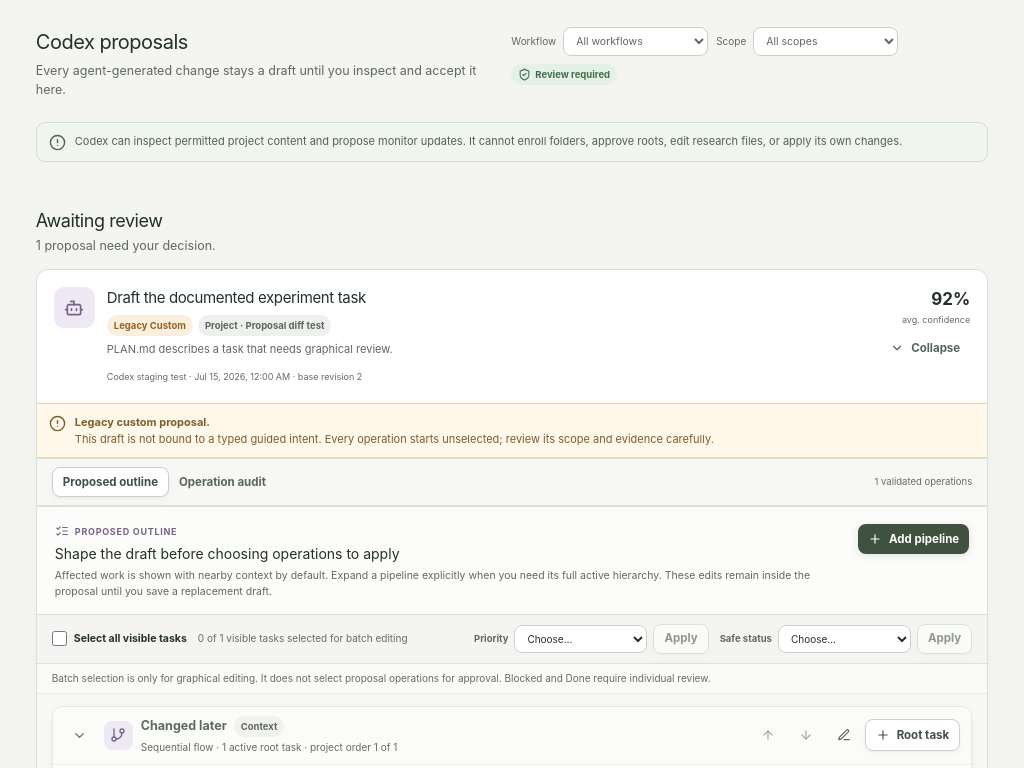
ProposalsView immutable diffs › reuses the same apply request ID when retrying the exact selected-operation payload
Later steps or results of the test are not shown.
Click the tab "Operation audit" at (222, 482), box [169, 467, 276, 497]
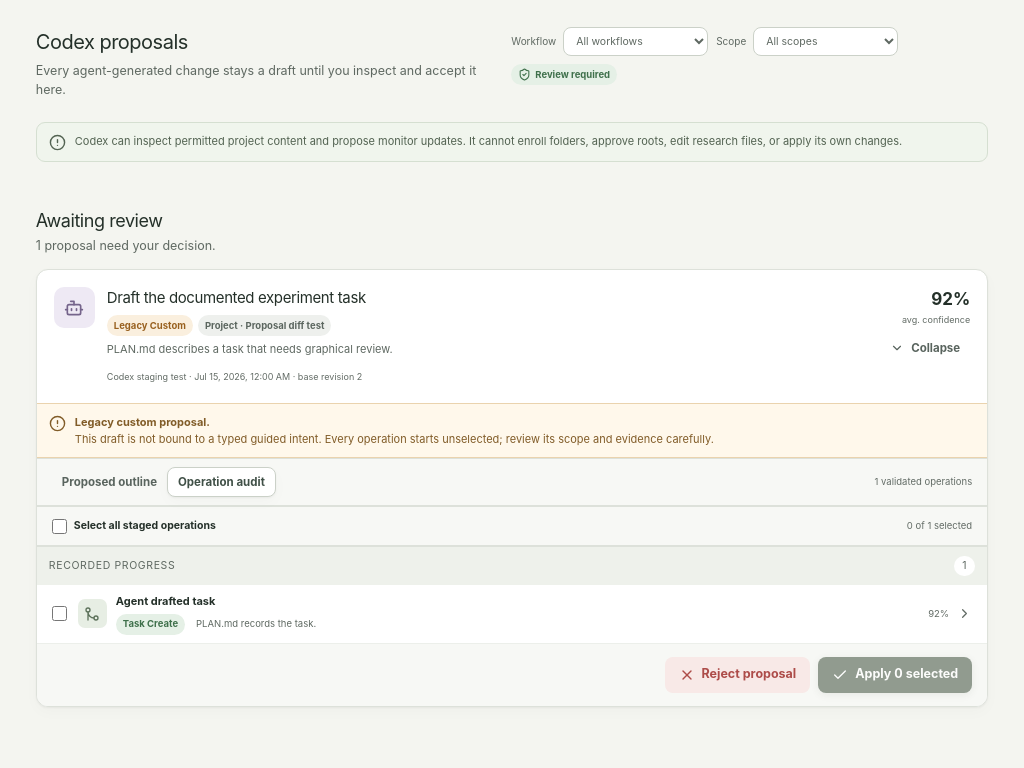
Click the checkbox named "Select Agent drafted task (Task Create)" at (59, 614), box [52, 606, 67, 621]
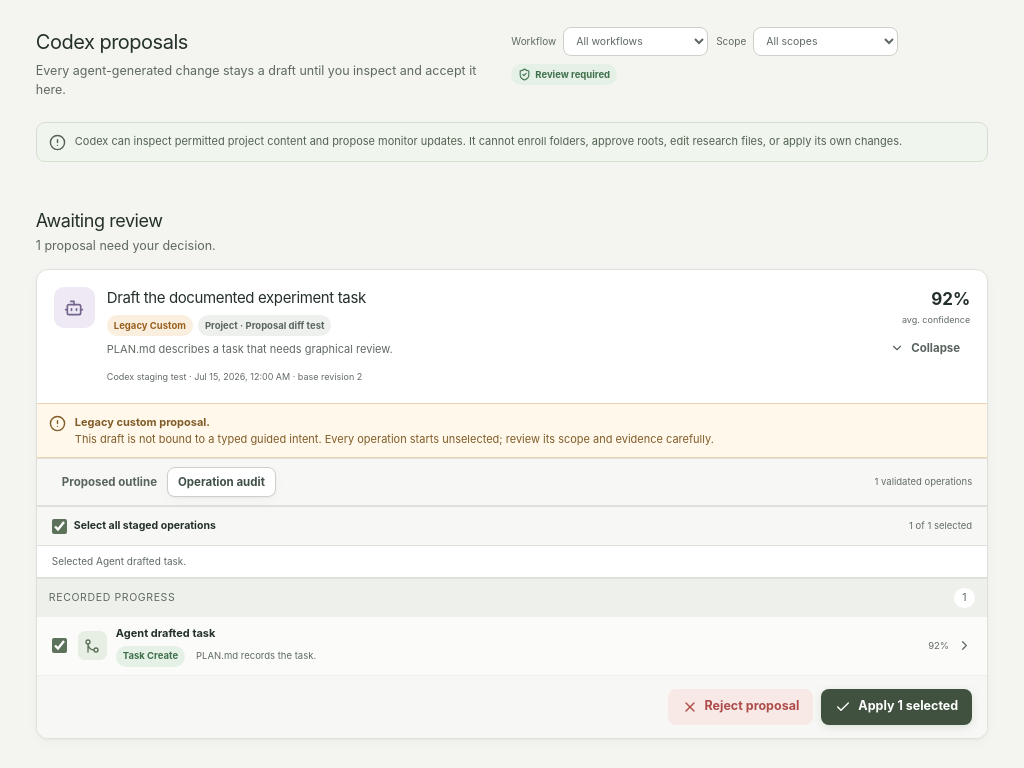
Click the button "Apply 1 selected" at (897, 706), box [821, 688, 972, 724]
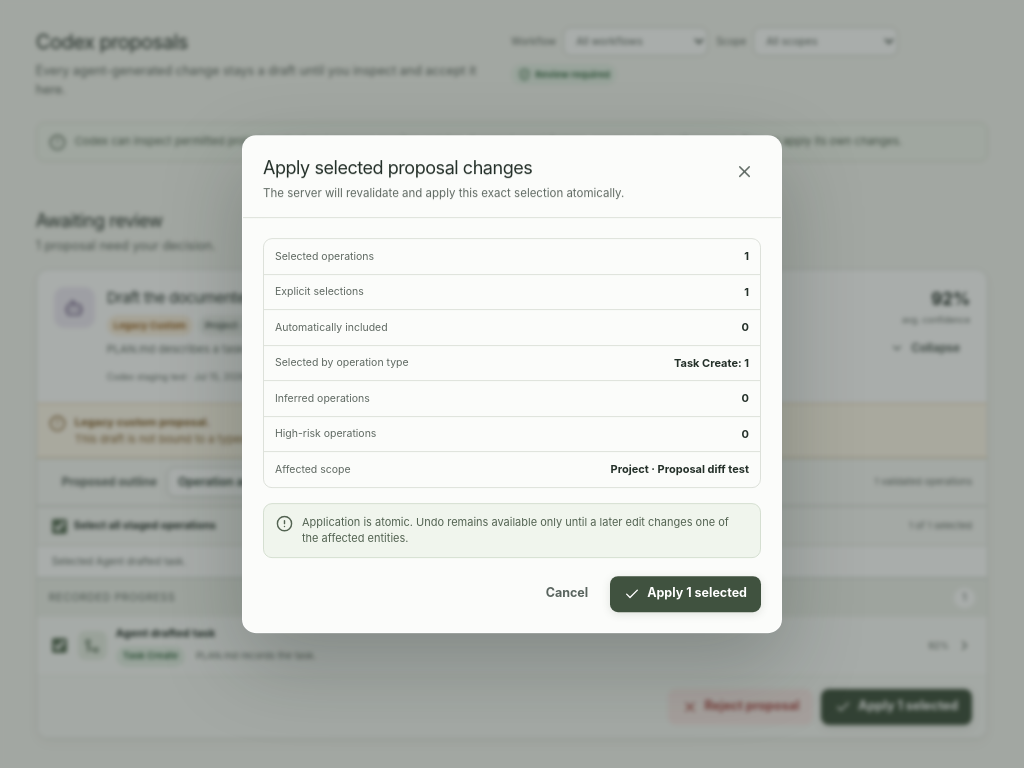
Click the button "Apply 1 selected" at (686, 594), box [610, 576, 761, 612]
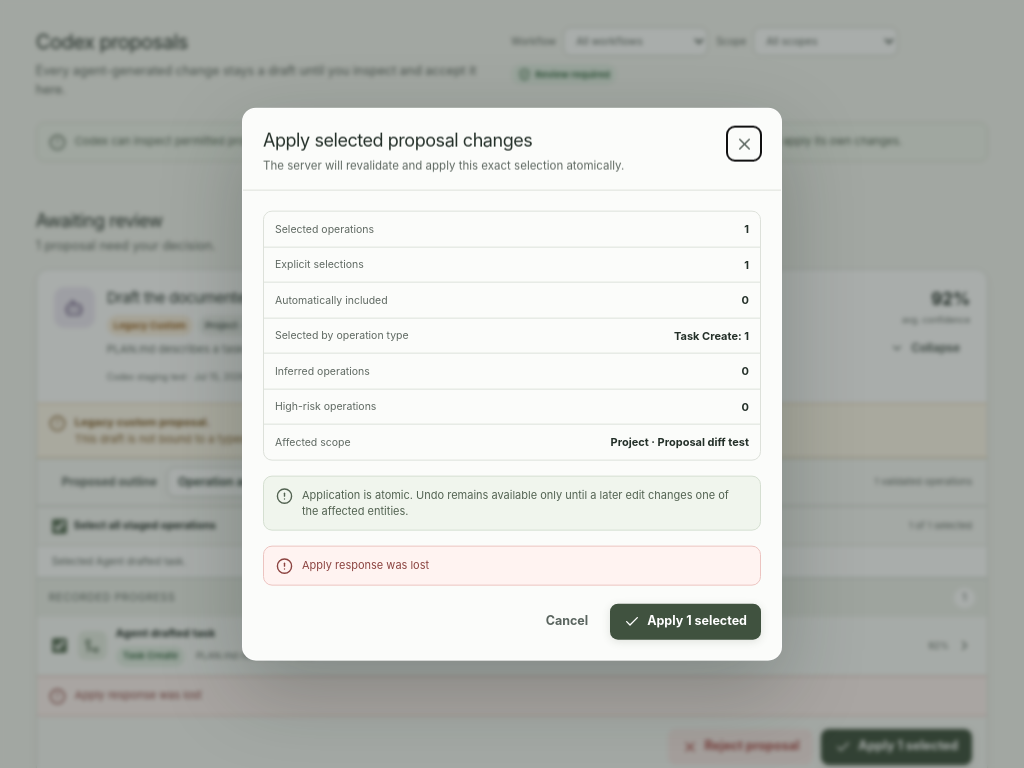
Check: the button "Apply 1 selected" is enabled, box [610, 603, 761, 639]
